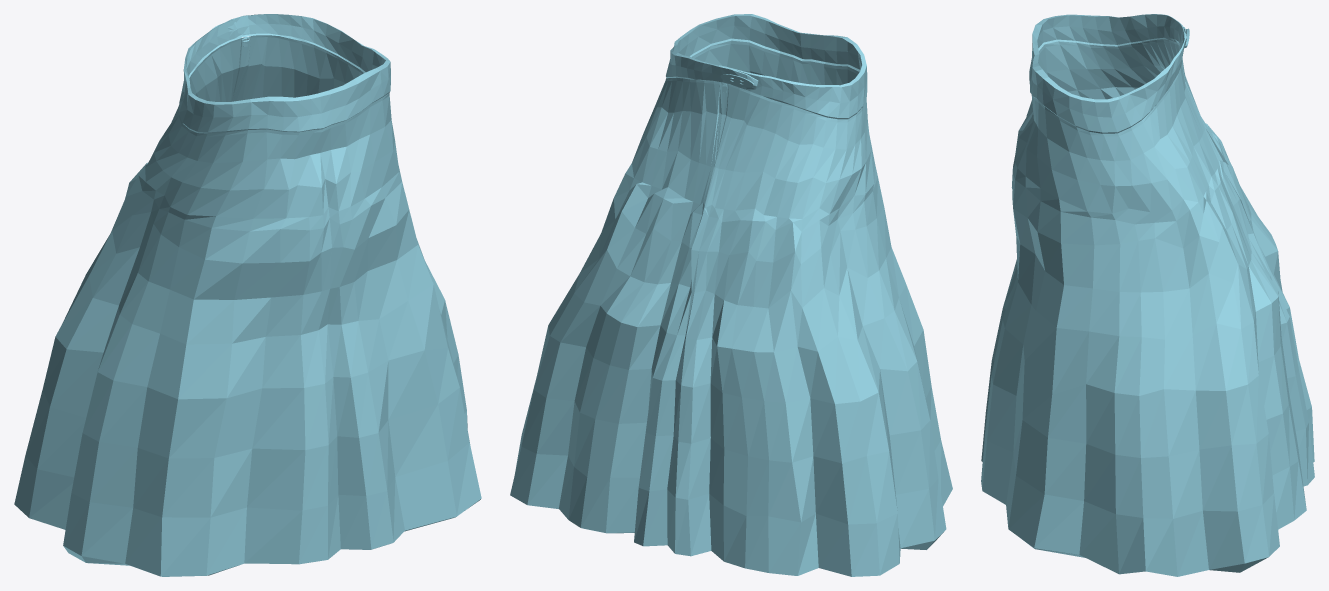
File: mhw_sonicteam998_maria_skirt.glb
The picture shows the model from 3 angles, left to right: view 1: azimuth 30°, elevation 25°; view 2: azimuth 150°, elevation 25°; view 3: azimuth 270°, elevation 25°; orthographic projection. The views are drawn at different scales.
Visible parts, largest first — view 1: mhw_sonicteam998_maria_skirt; view 2: mhw_sonicteam998_maria_skirt; view 3: mhw_sonicteam998_maria_skirt.
Boxes of the visible parts, <box> form: mhw_sonicteam998_maria_skirt: <box>14,14,481,576</box>; mhw_sonicteam998_maria_skirt: <box>510,14,952,576</box>; mhw_sonicteam998_maria_skirt: <box>981,14,1314,576</box>.
Size of the model in its own units: 0.6558 by 0.7322 by 0.4901.
1 material, 1 textured.
